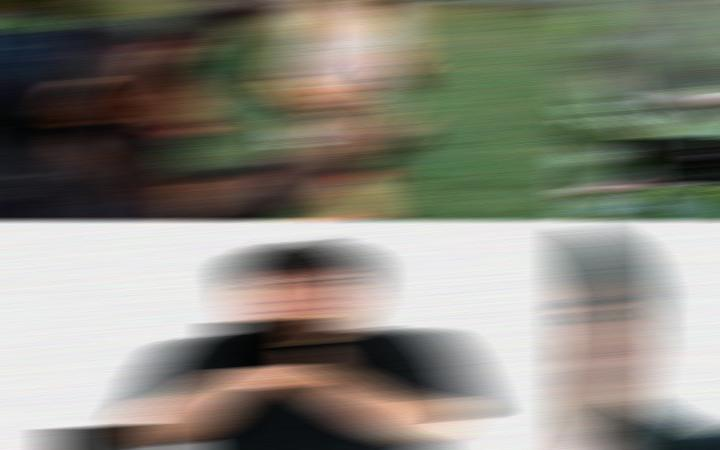chimpanzee: (0, 0, 412, 219)
human: (121, 238, 489, 450), (564, 220, 720, 449), (259, 0, 413, 220)
